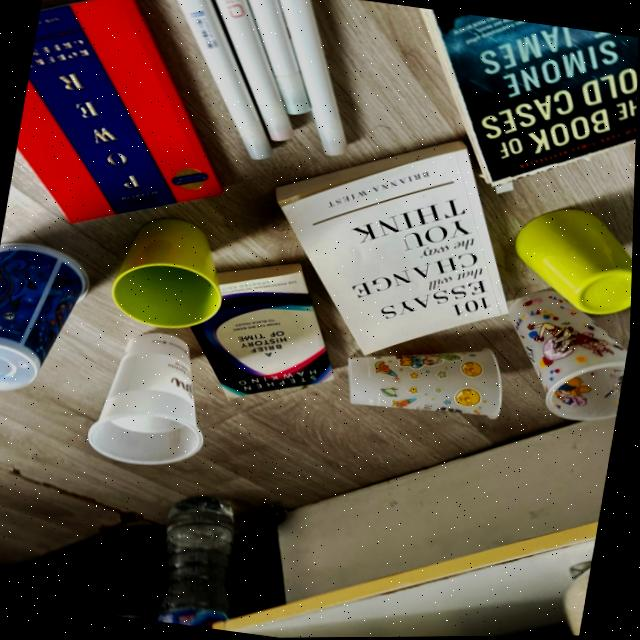Book: (276, 139, 513, 353), (19, 0, 224, 219), (419, 9, 639, 181), (192, 261, 337, 398)
HighLight Pen: (178, 0, 273, 160), (216, 0, 293, 141), (278, 0, 347, 156), (248, 0, 311, 115)
Plastic Cup: (507, 289, 625, 422), (0, 242, 94, 368), (347, 345, 502, 420), (100, 332, 199, 430), (91, 416, 202, 463), (0, 347, 37, 387)
WaterGlass: (518, 210, 634, 315), (118, 264, 225, 326), (119, 221, 213, 277)
